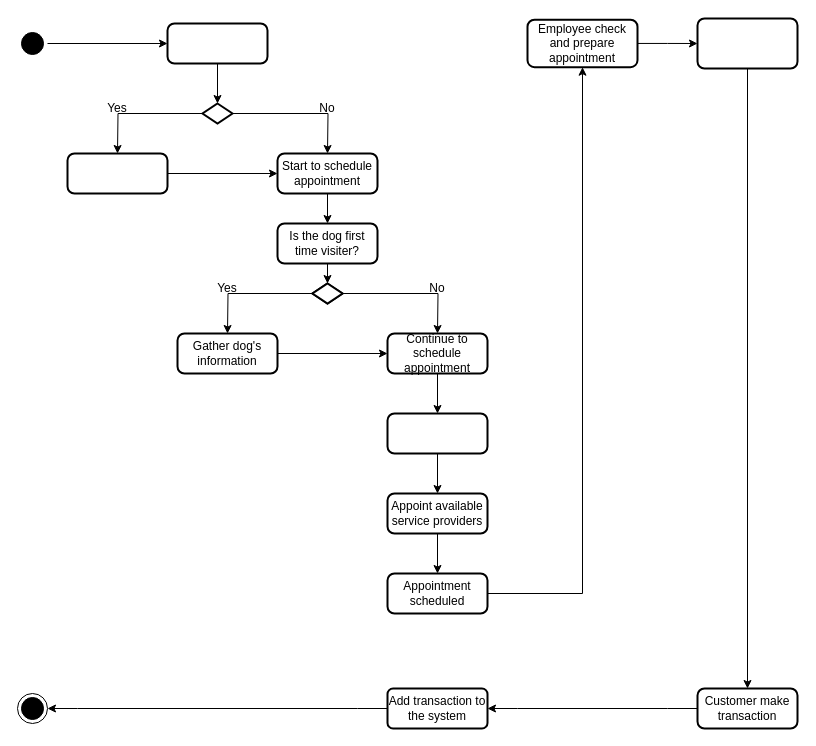
The diagram is 816 pixels wide and 746 high, and some of its shapes have lost their labels. The shapes that lost their labels are listed below. From the top down, each one's centre as x and y in pixels, then its label:
At point 217,43: "Is the customer first time?".
At point 747,43: "Appointment marked as completed".
At point 117,173: "Gather customer's information".
At point 437,433: "Gather wanted service".
